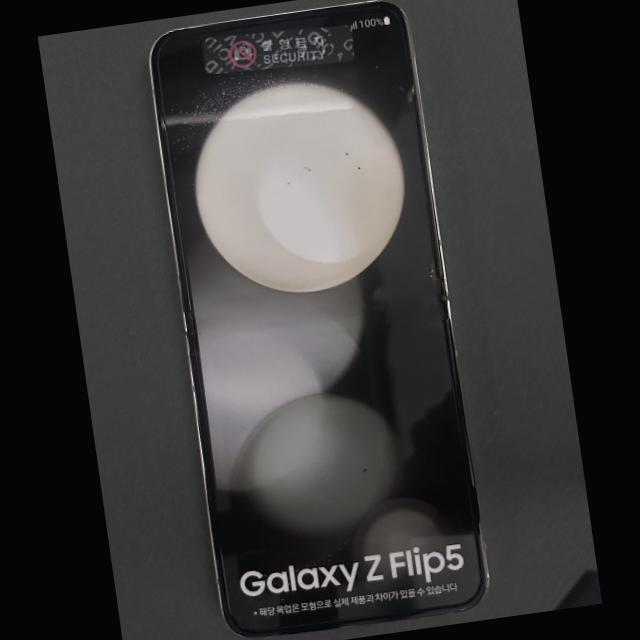phone: (151, 2, 487, 635)
sticker: (203, 24, 355, 74)
